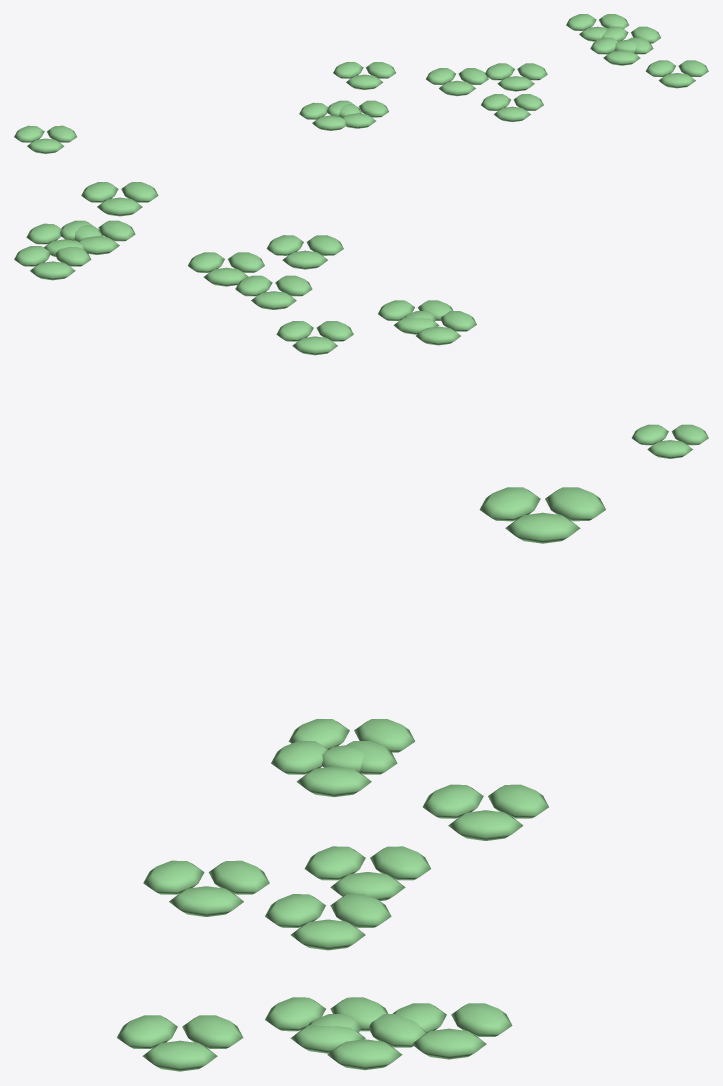
File: layer_summer_edge.glb
The picture shows the model from 3 angles, top to bottom: view 1: azimuth 30°, elevation 25°; view 2: azimuth 150°, elevation 25°; view 3: azimuth 270°, elevation 25°; orthographic projection. The views are drawn at different scales.
Size of the model in its own units: 2.17 by 0.035 by 0.7778.
